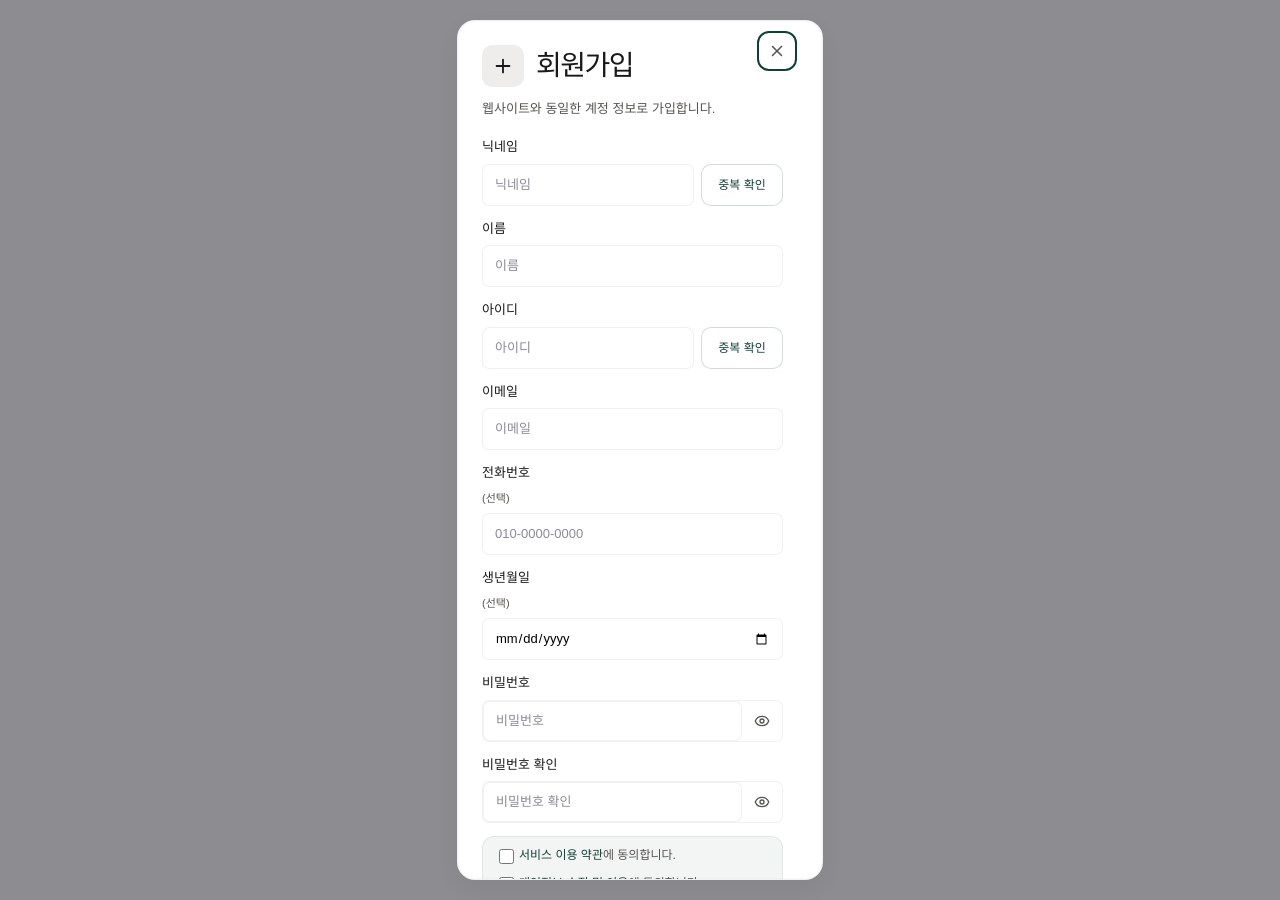
Test: account withdrawal frontend policy › signup stays blocked until both duplicate checks have passed
Type "nickname" into the field labelled "닉네임". click: (588, 185)
box: [482,164,694,206]
Type "Member" into the field labelled "이름". click: (632, 266)
box: [482,245,783,287]
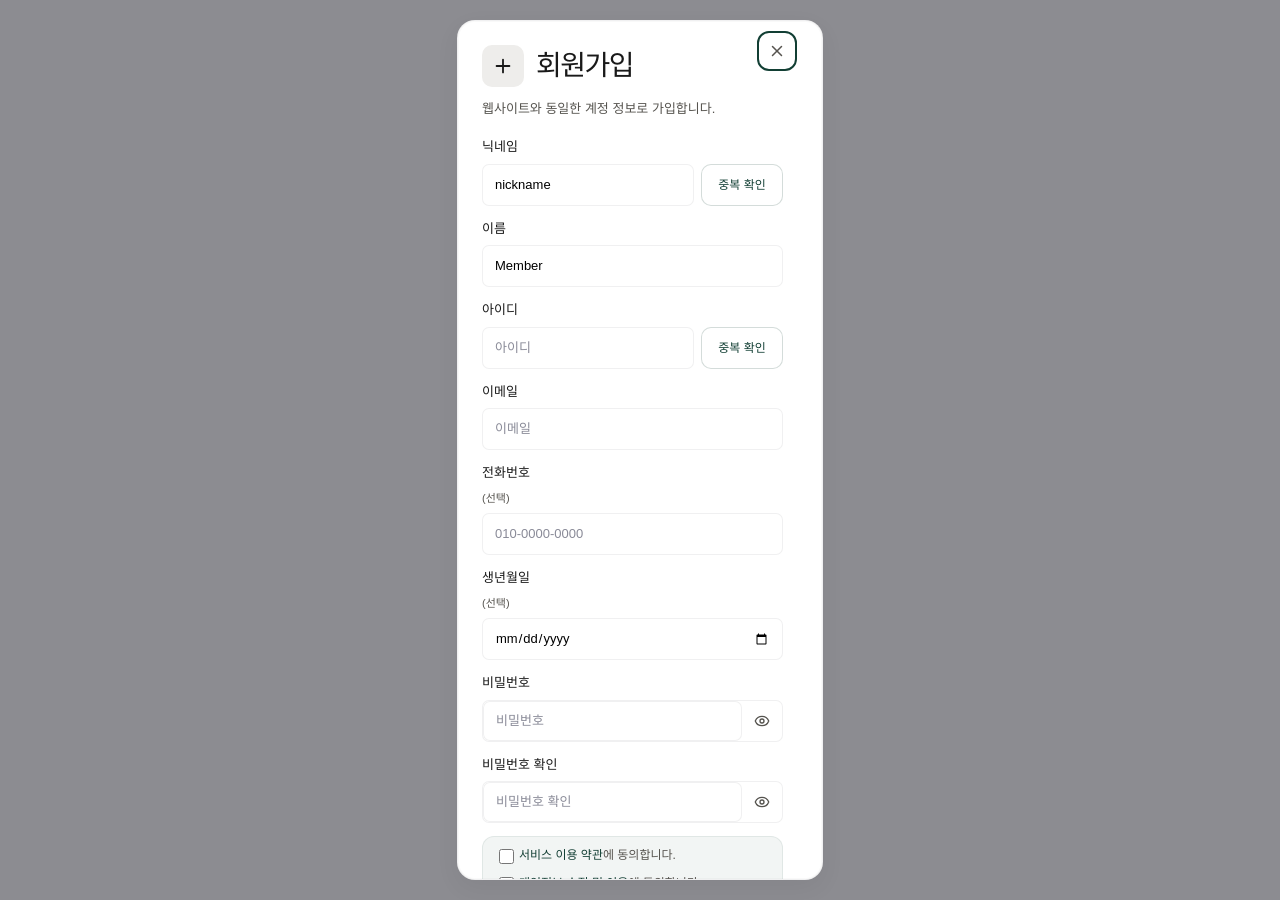
Type "member-id" into the field labelled "아이디". click: (588, 348)
box: [482,327,694,369]
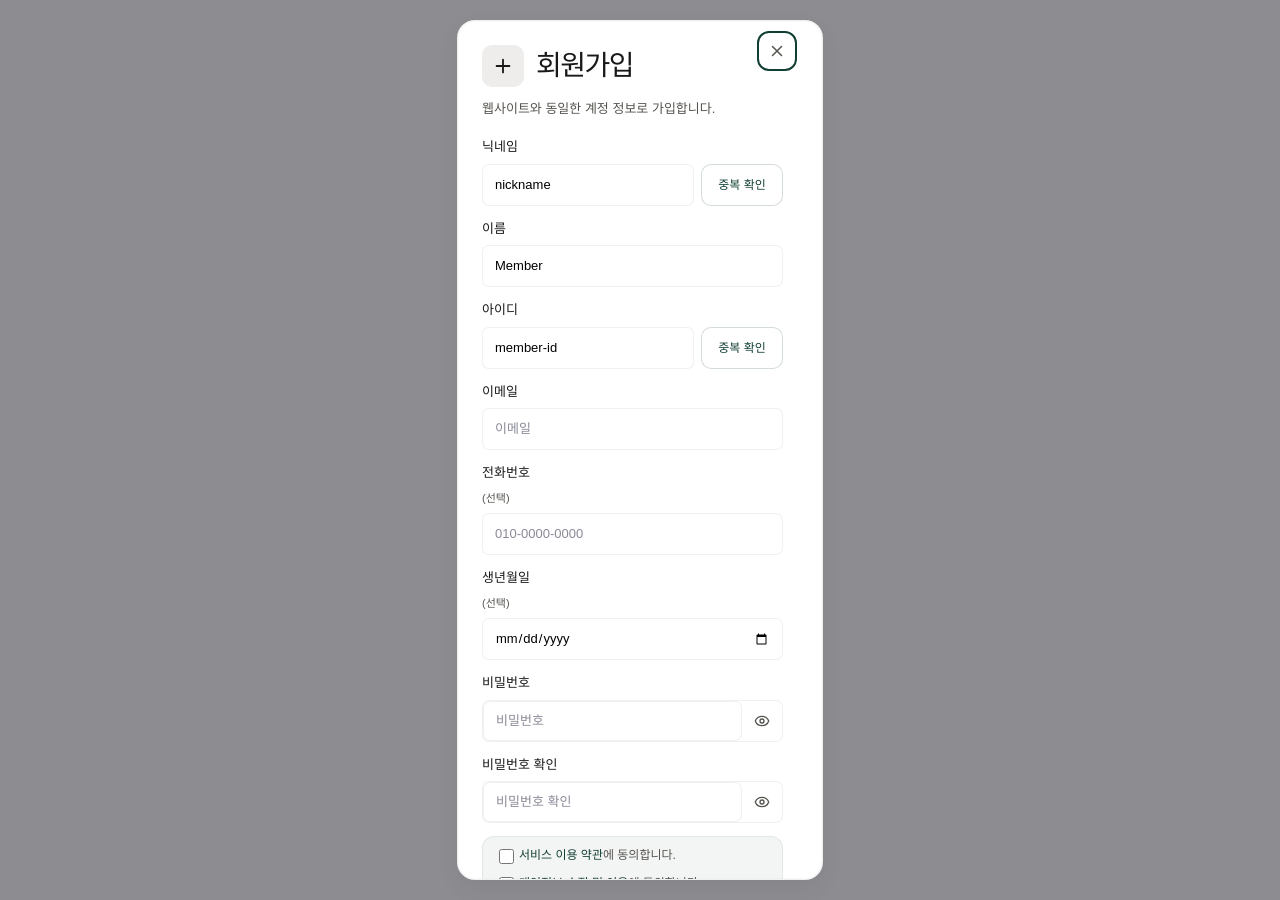
Type "member@example.com" into the field labelled "이메일". click: (632, 429)
box: [482,408,783,450]
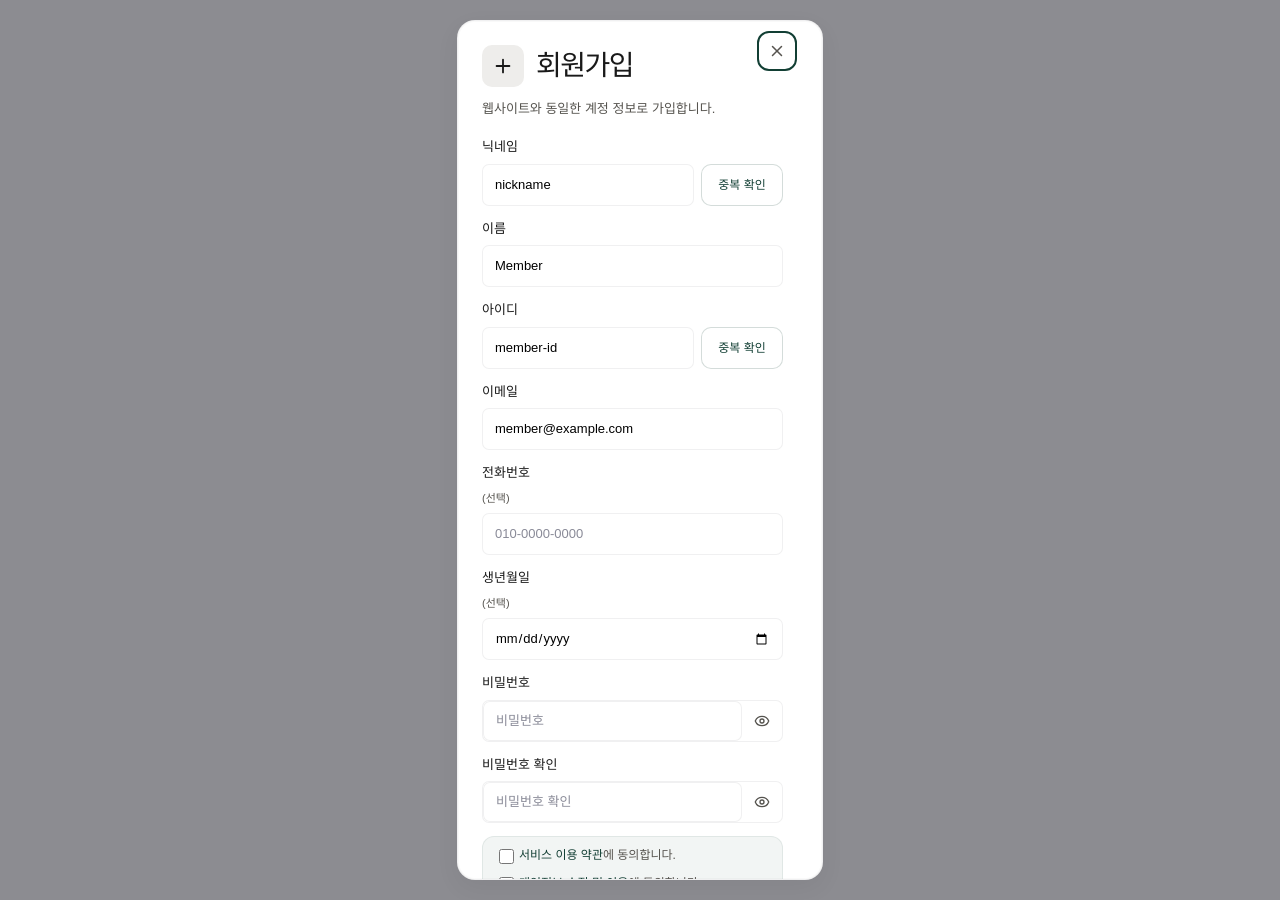
Type "password123" into the password field labelled "비밀번호". click: (612, 721)
box: [483,701,742,741]
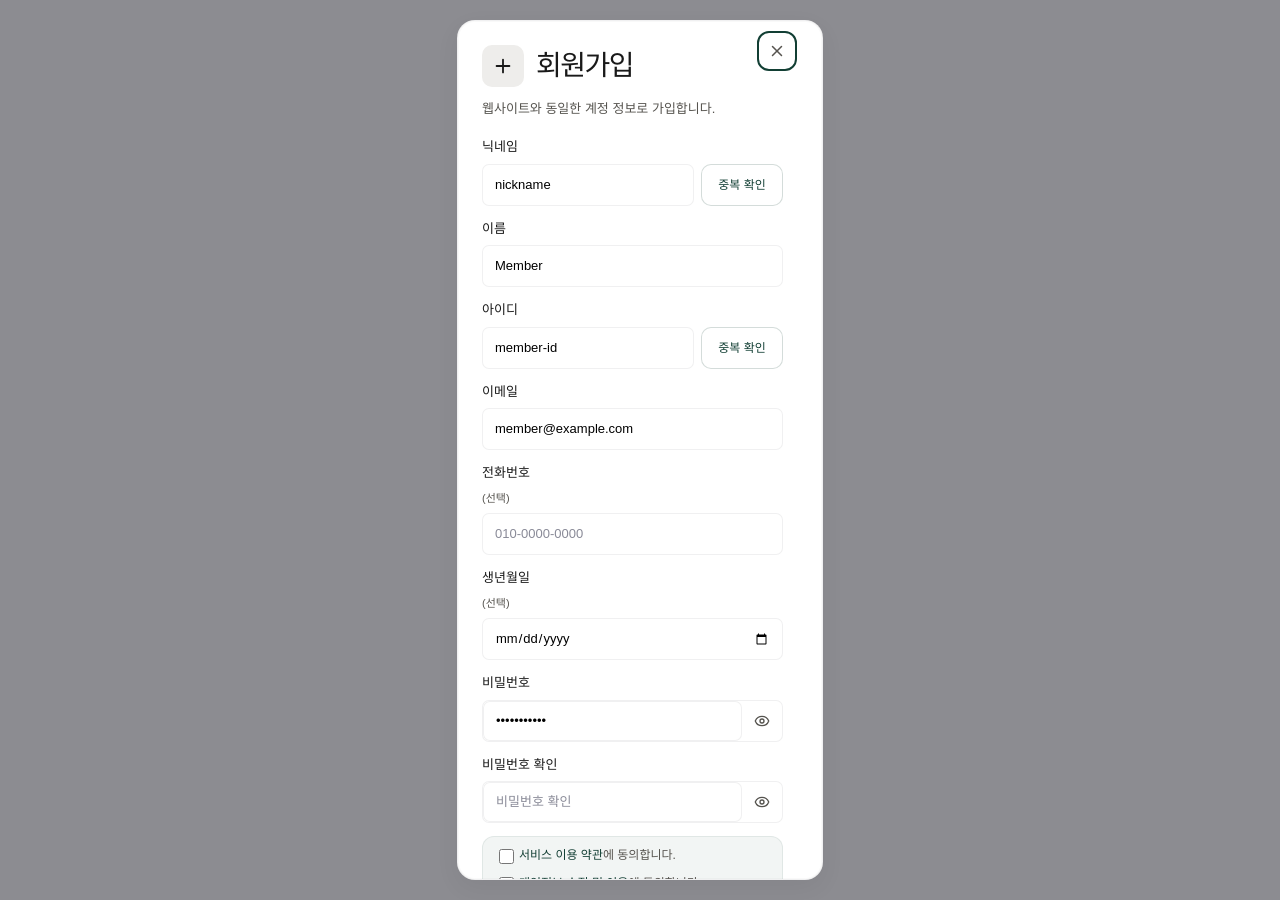
Type "password123" into the password field labelled "비밀번호 확인". click: (612, 802)
box: [483,782,742,822]
(page scrolled)
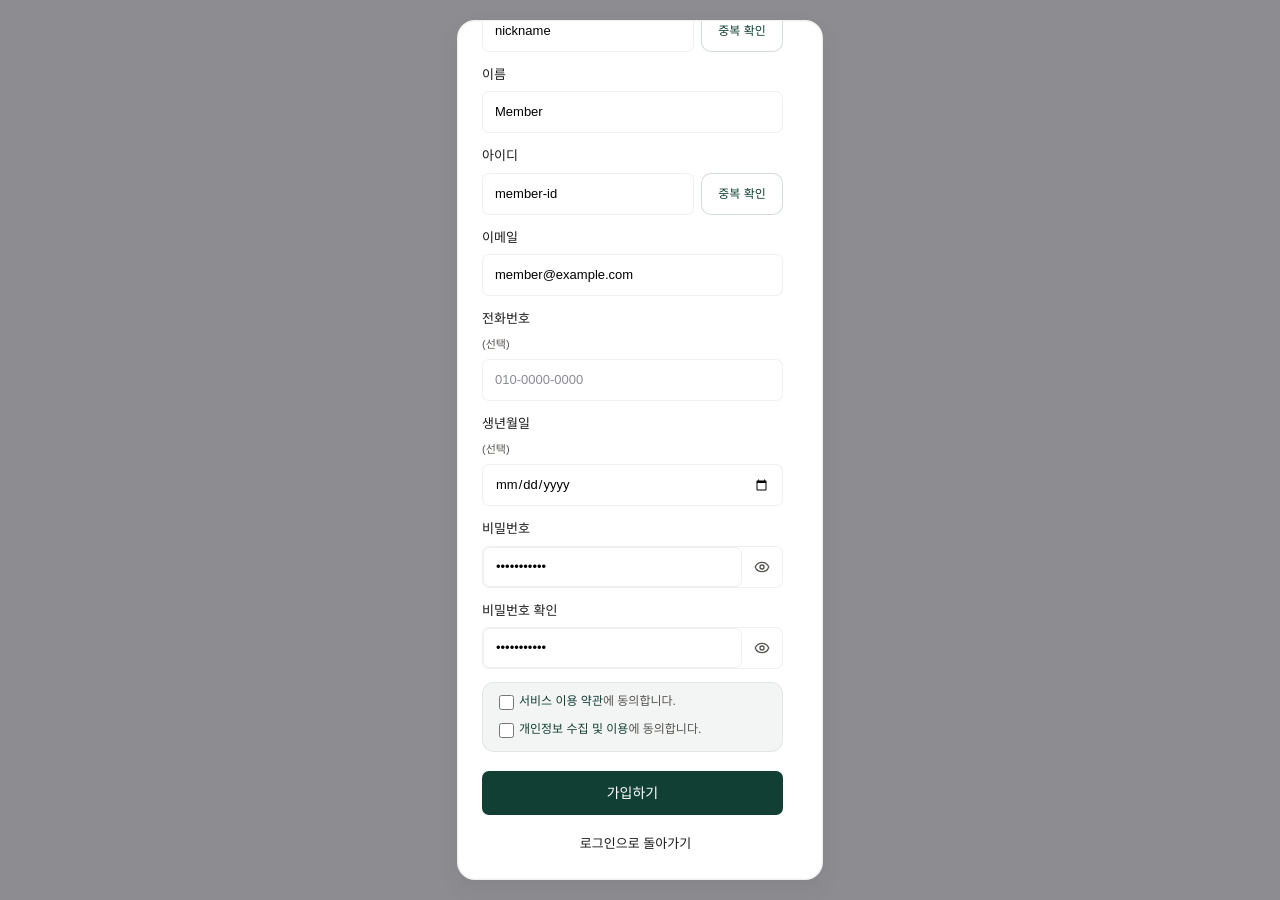
Click the button "가입하기". click: (632, 793)
box: [482,771,783,815]
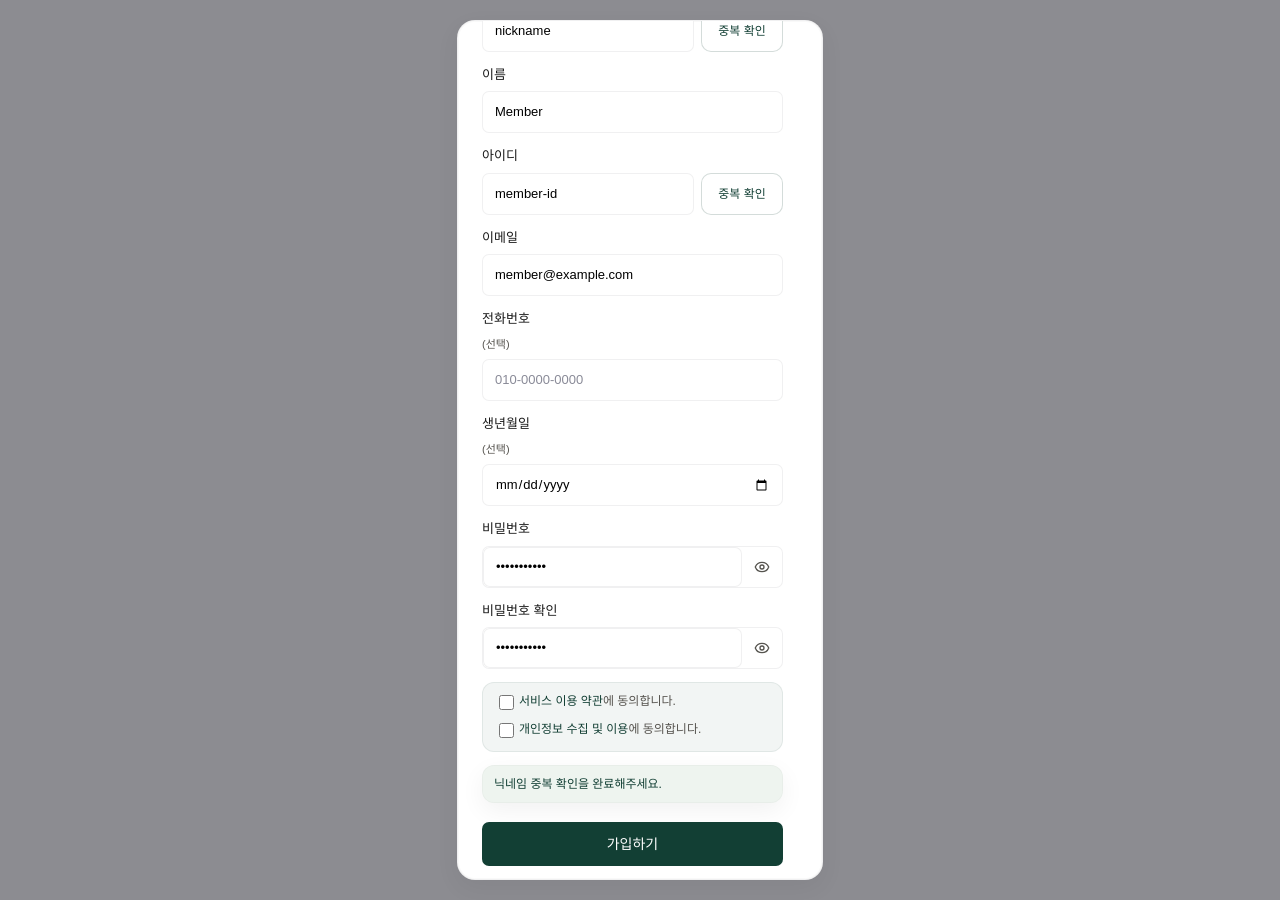
Expected: the text "닉네임 중복 확인을 완료해주세요." is shown, [482,765,783,803]
